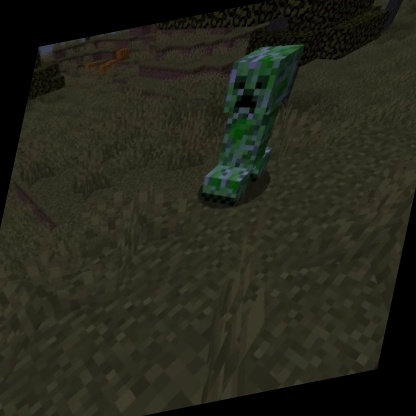creeper: (191, 34, 312, 219)
